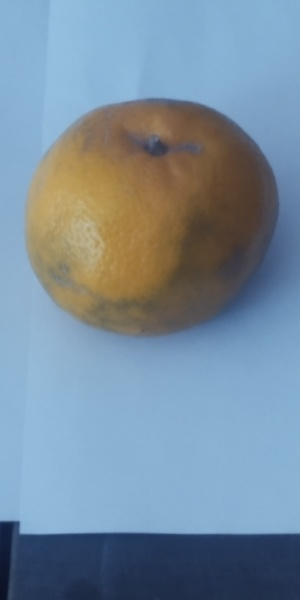BAD: (20, 94, 285, 337)
